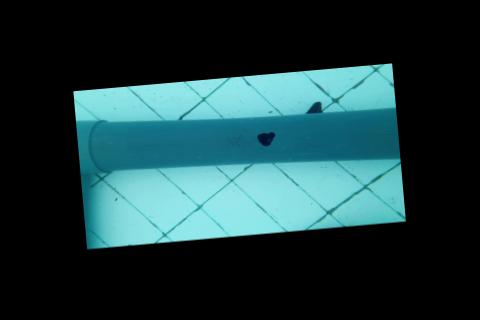kebocoran: (256, 129, 277, 147)
